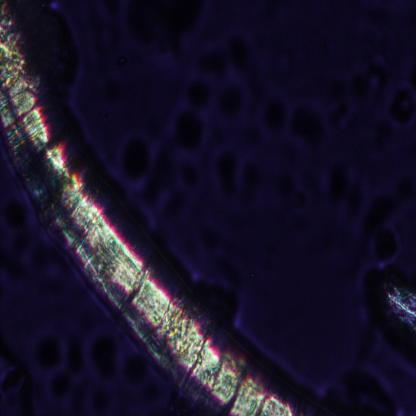Microfibre: (0, 4, 308, 415)
